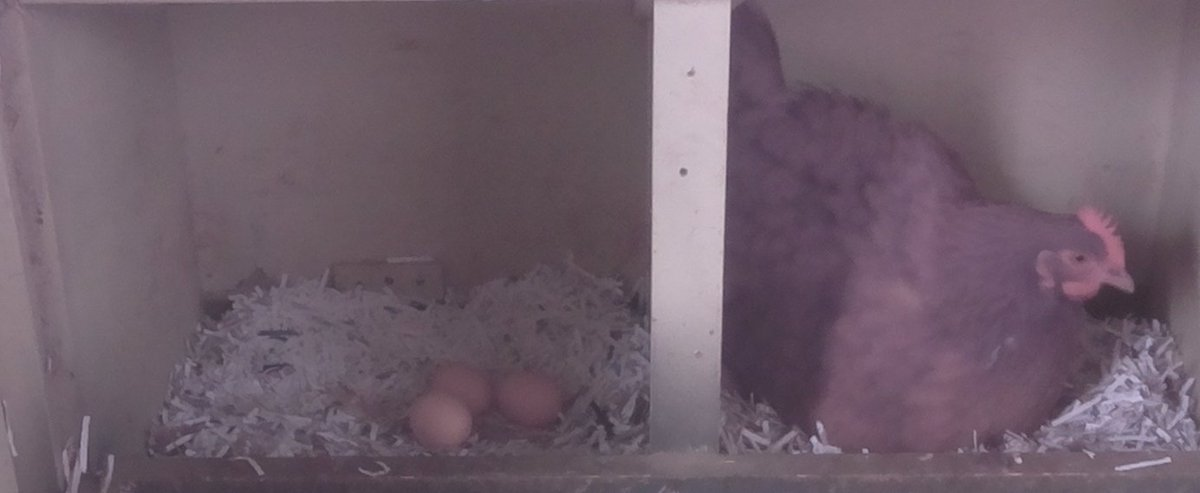egg: (492, 367, 568, 433), (404, 388, 477, 453), (427, 357, 497, 422)
hen: (729, 42, 1141, 451)
